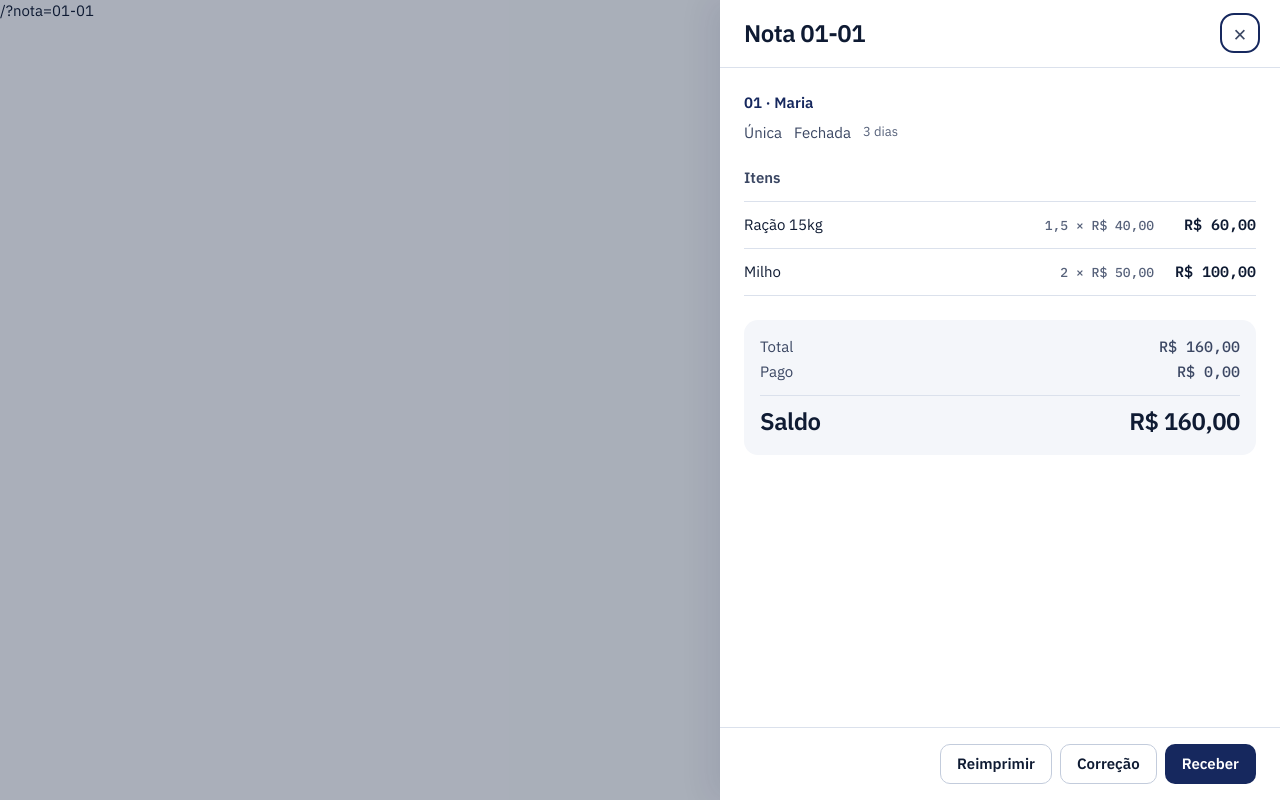
Test: Receber › erro 400 aparece no formulário, que continua aberto com o que foi digitado
The width and height of the screenshot is (1280, 800).
Click the button "Receber" at (1210, 764), box [1165,744,1256,784]
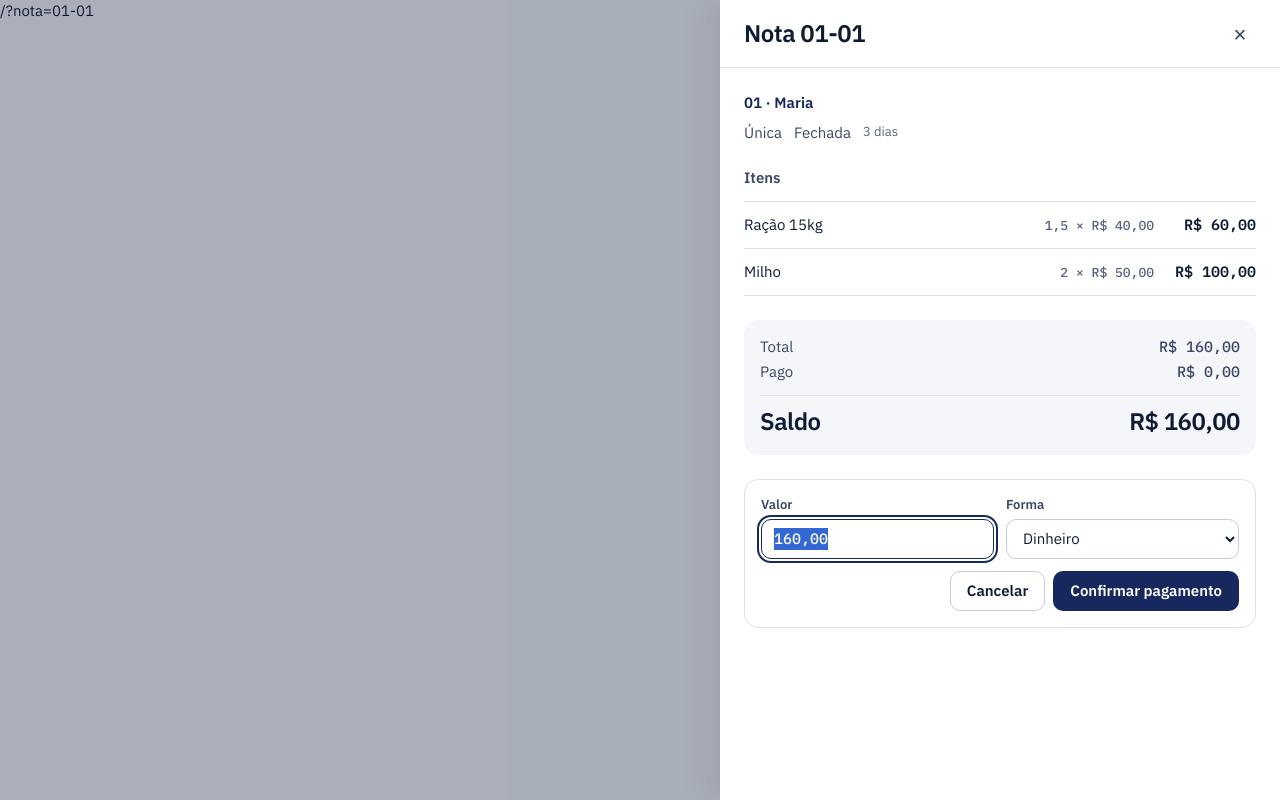
Replace the text in the field labelled "Valor" with "500,00" at (878, 539), box [761,519,994,559]
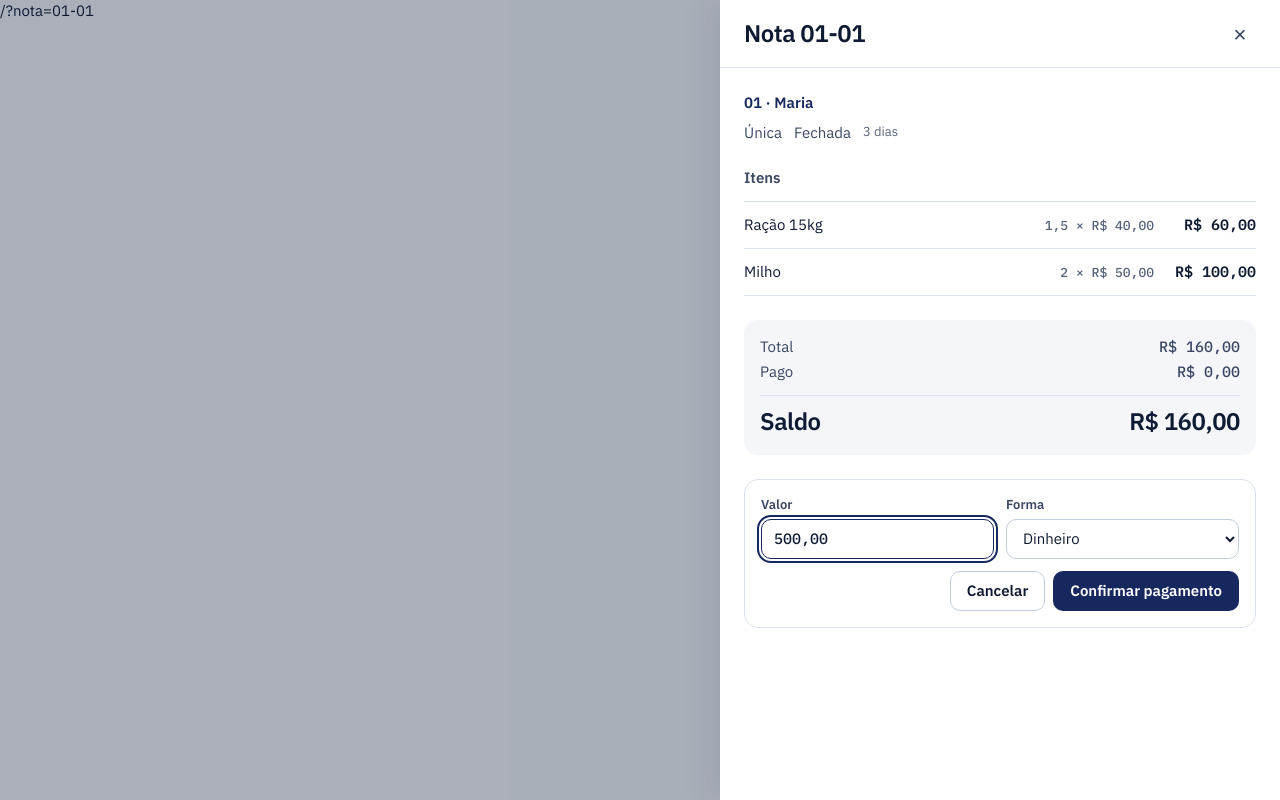
Click the button "Confirmar pagamento" at (1146, 591), box [1053,571,1239,611]
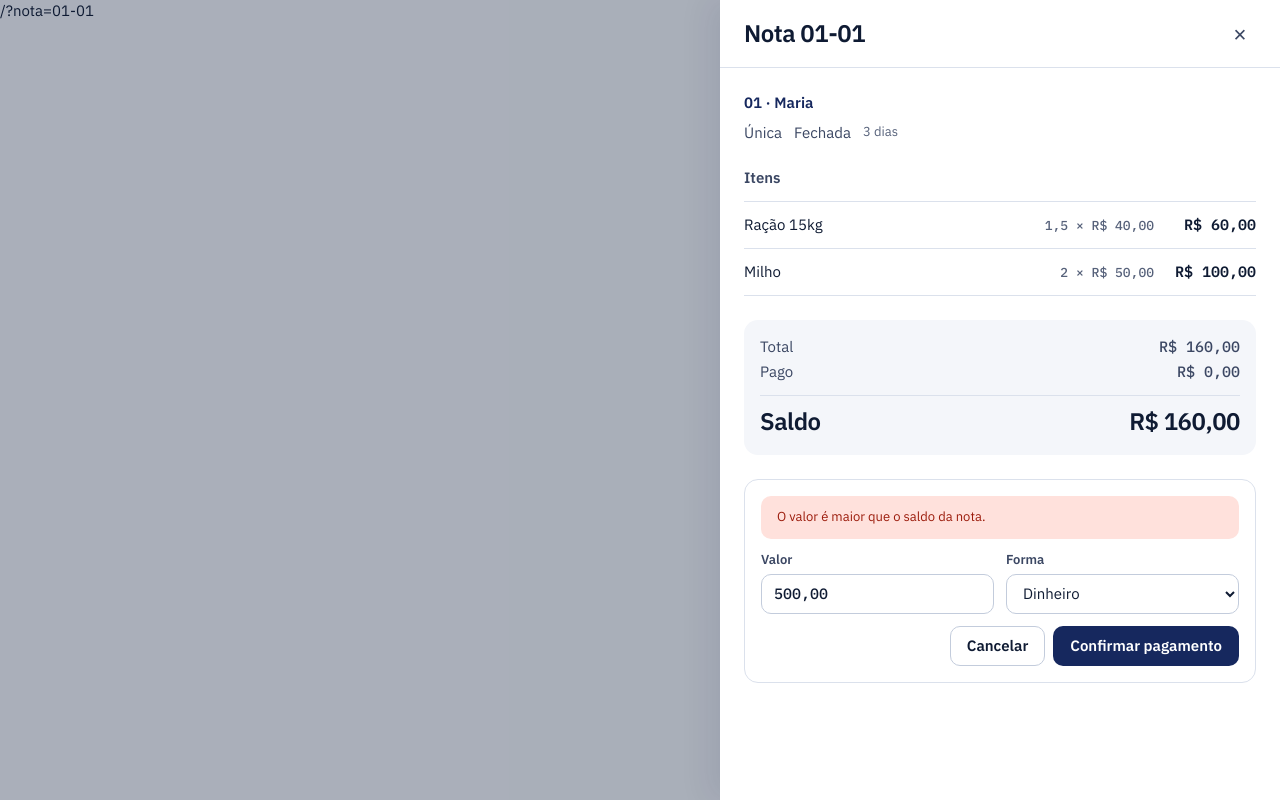
Now the button "Confirmar pagamento" is enabled, box [1053,626,1239,666]
Now the message reads "O valor é maior que o saldo da nota.", box [777,508,986,525]
